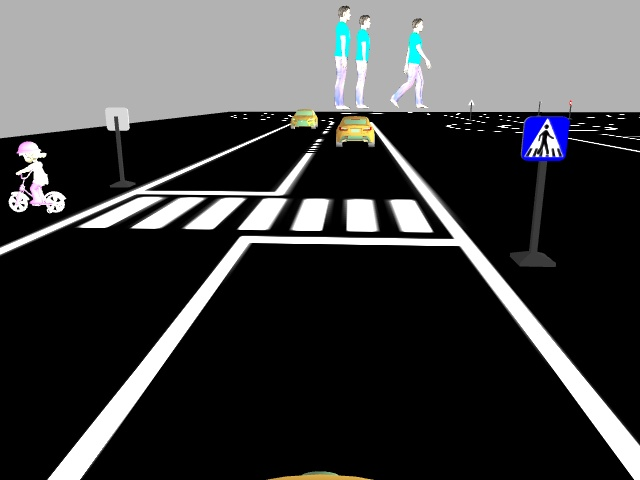Crosswalk: (523, 117, 567, 161)
Pedestrian: (5, 141, 67, 216)
